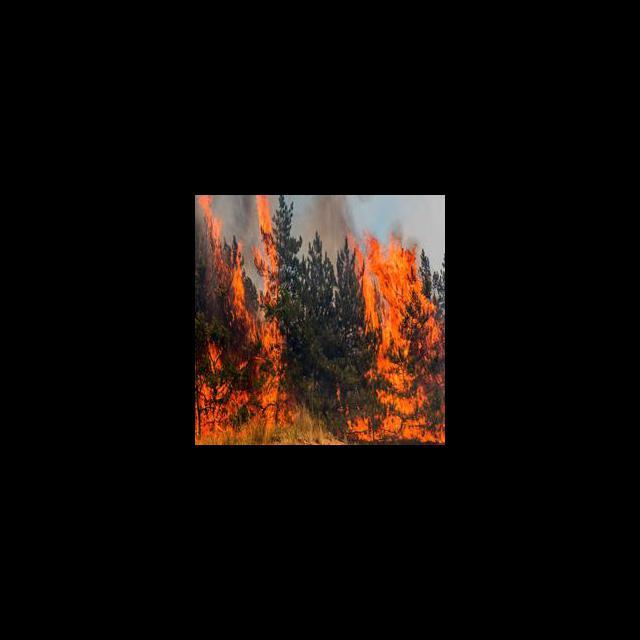Fire: (196, 195, 293, 439), (344, 225, 444, 444)
